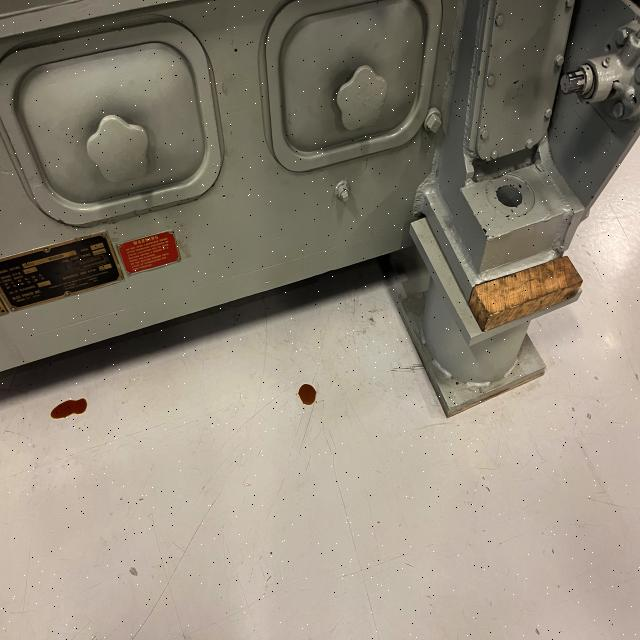Oil Leak: (48, 396, 89, 421), (295, 381, 321, 408), (66, 400, 73, 406)
